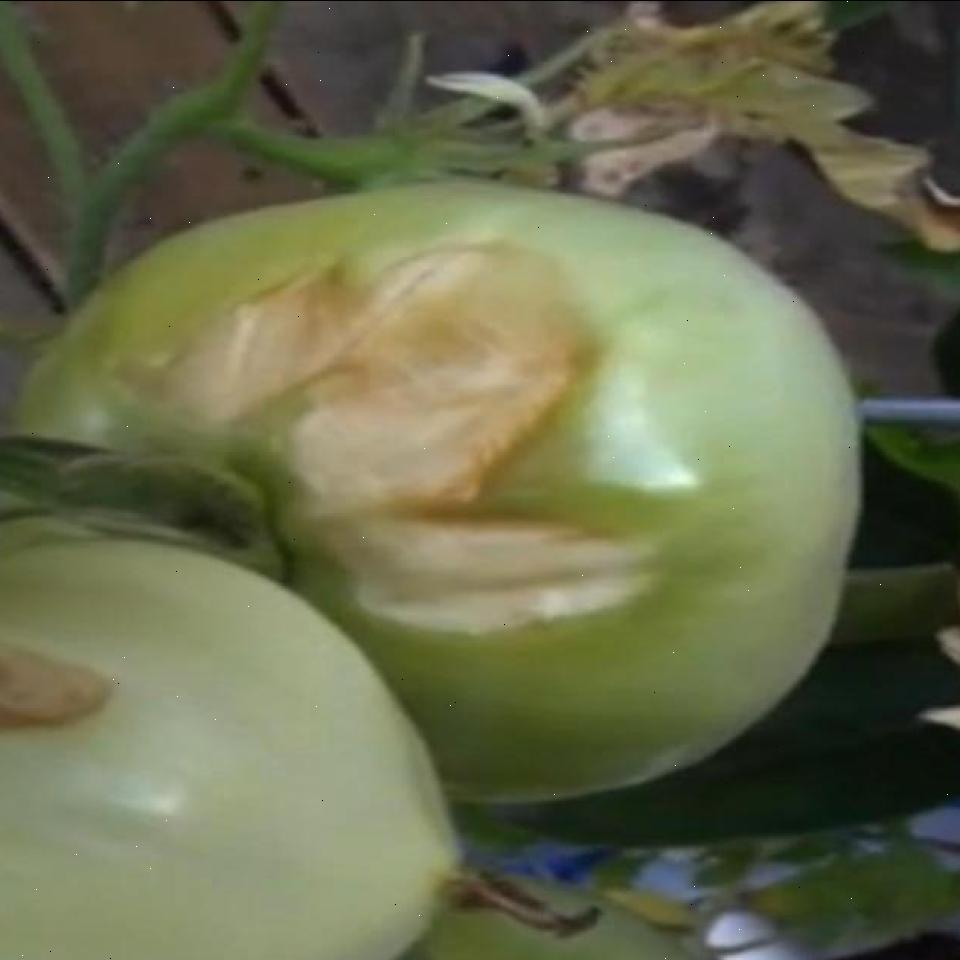Sunscald: (126, 241, 668, 634), (0, 610, 137, 764)
